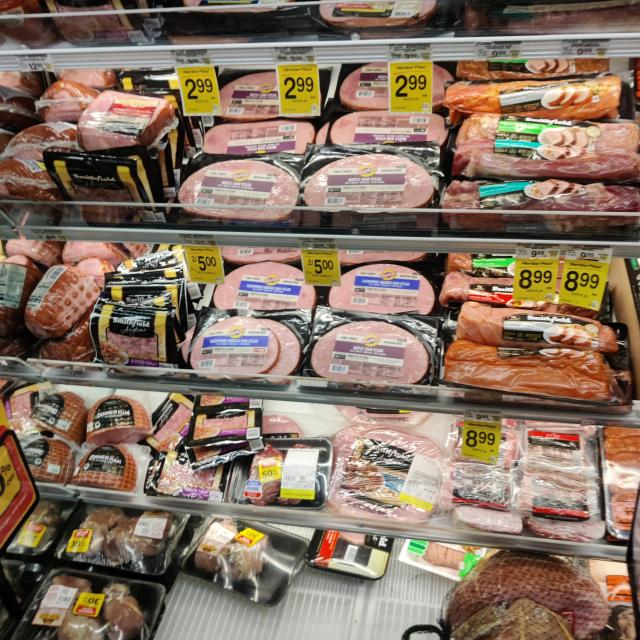Meat: (427, 290, 640, 414), (425, 550, 640, 640), (314, 416, 446, 529), (192, 514, 320, 623), (464, 102, 640, 178), (302, 314, 439, 404), (430, 167, 640, 224), (302, 152, 441, 230), (88, 260, 179, 376), (449, 420, 534, 538), (172, 152, 298, 226), (530, 422, 604, 535), (182, 312, 298, 383), (67, 75, 172, 149), (59, 510, 182, 572), (158, 399, 268, 459), (24, 250, 98, 338), (86, 386, 154, 443), (71, 442, 142, 492)
